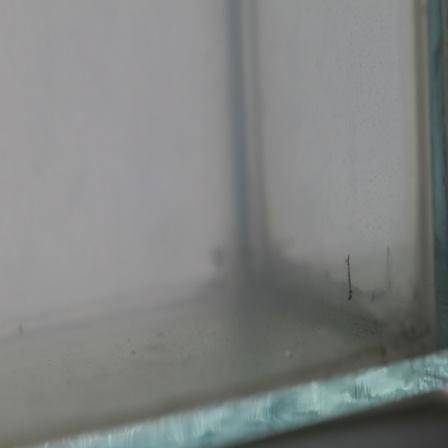Jentik-Nyamuk: (341, 253, 357, 305)
